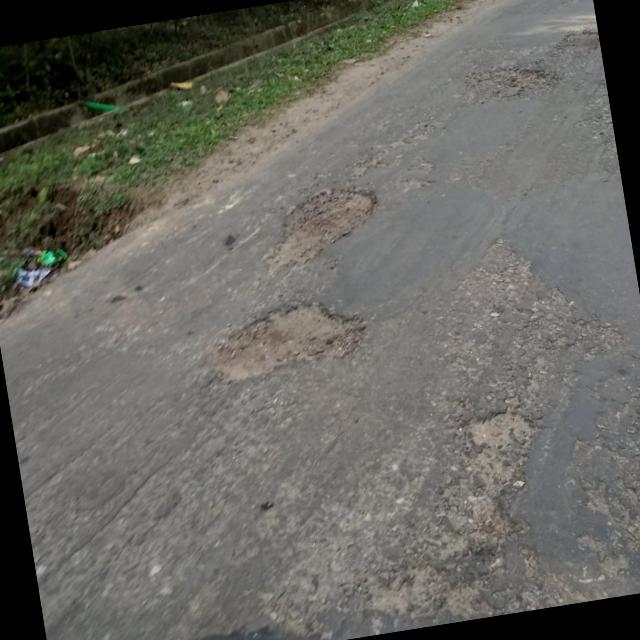Lubang: (207, 303, 365, 382), (266, 187, 377, 275), (467, 65, 560, 100), (468, 412, 531, 450), (558, 27, 600, 48)
